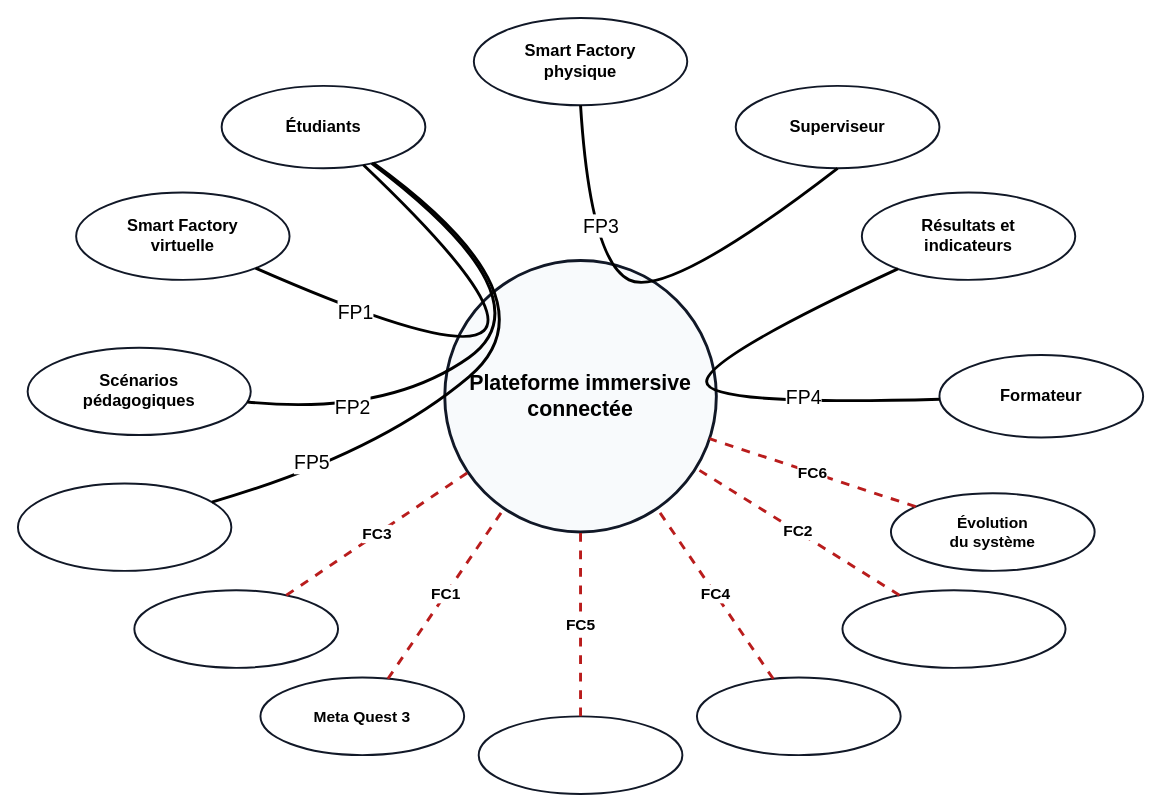
Some shapes in this 1160 by 811 pixel diagram are drawn without their labels. Here are the shapes that lost their labels. From the top down, the centre of each, then its label:
the point at 124,526: Scénario d'implantation
the point at 236,628: Modèles 3D industriels
the point at 953,628: ESP32 / FastAPI Réseau local
the point at 798,716: Architecture logicielle
the point at 580,754: Contexte du stage
